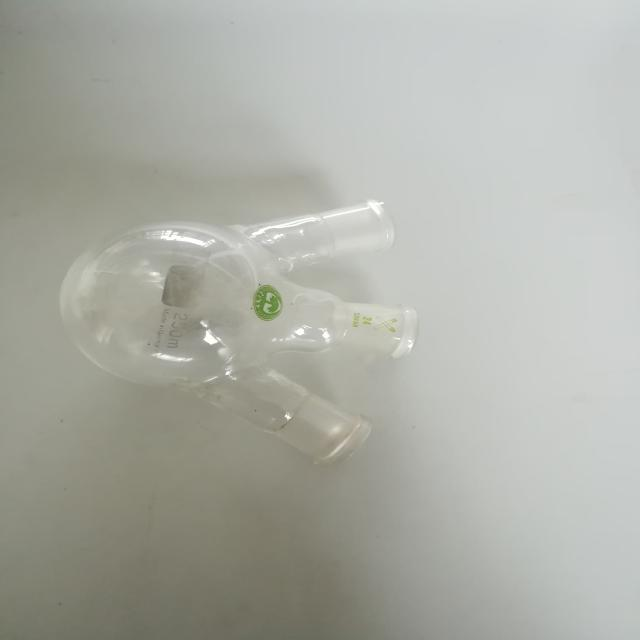Round_Bottom_Flask_Borosilicate_Glass_3_Neck: (20, 169, 493, 522)
